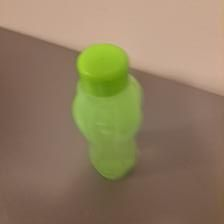bottle: (68, 40, 145, 181)
